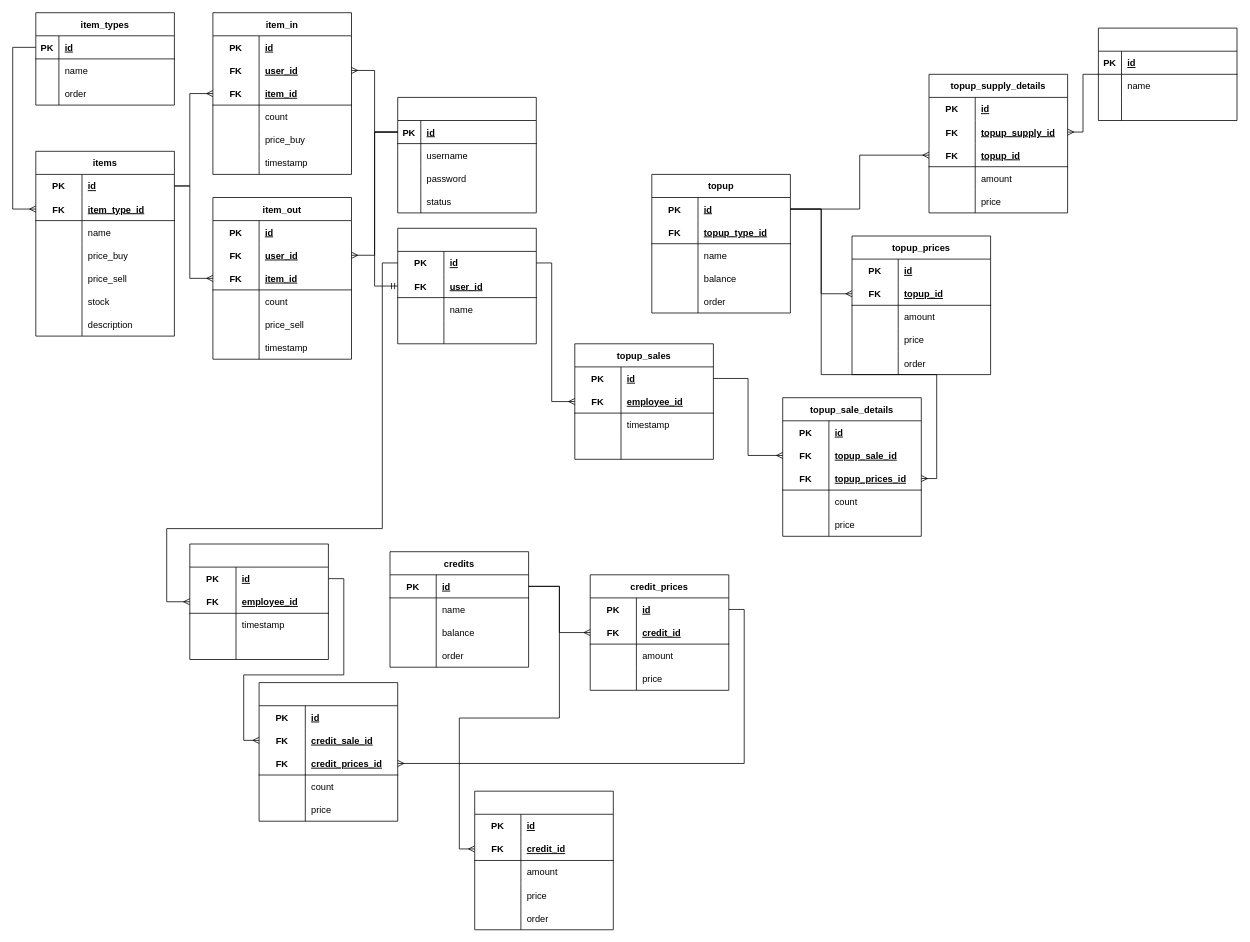
The diagram is 1250 pixels wide and 942 high, and some of its shapes have lost their labels. The shapes that lost their labels are listed below. From the top down, each one's box as (x1, y1, x2, y2) in pixels, then its label:
(1098, 27, 1237, 121): topup_supplies
(397, 97, 536, 213): users
(397, 228, 536, 344): employee
(189, 543, 328, 660): credit_sales
(258, 682, 398, 821): credit_sale_details
(474, 790, 613, 930): credit_supply_details
